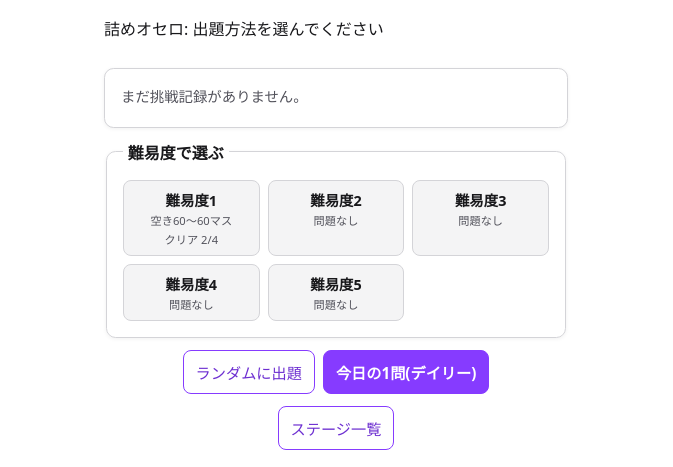
Test: T130: 詰めオセロステージ一覧の復習フィルタ › フィルタ選択はlocalStorageへ永続化され、再マウント後も保持される
This screenshot has width=673, height=467.
Click the button "ステージ一覧" at x=336, y=428, box [278,406,394,450]
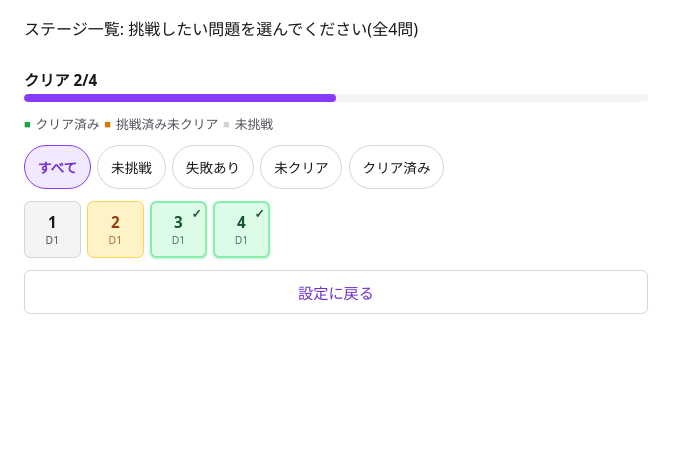
Now the element with class "tsume-stage-select" is shown
Now the button with class "tsume-stage-select__filter-button" showing "クリア済み" is shown
Click the button with class "tsume-stage-select__filter-button" showing "クリア済み" at x=397, y=167, box [349,145,444,189]
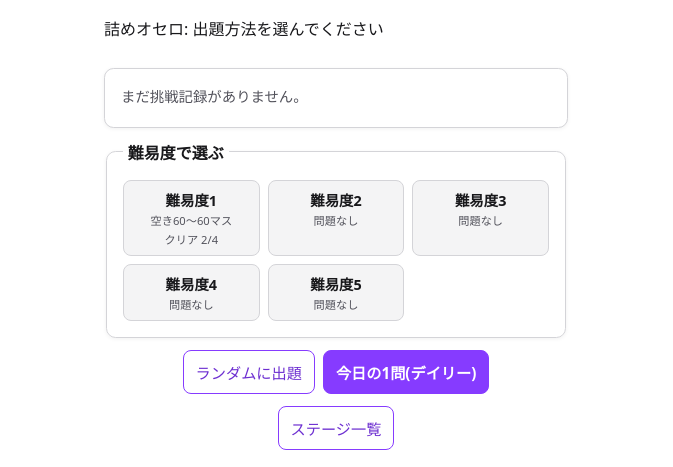
Click the button "ステージ一覧" at x=336, y=428, box [278,406,394,450]
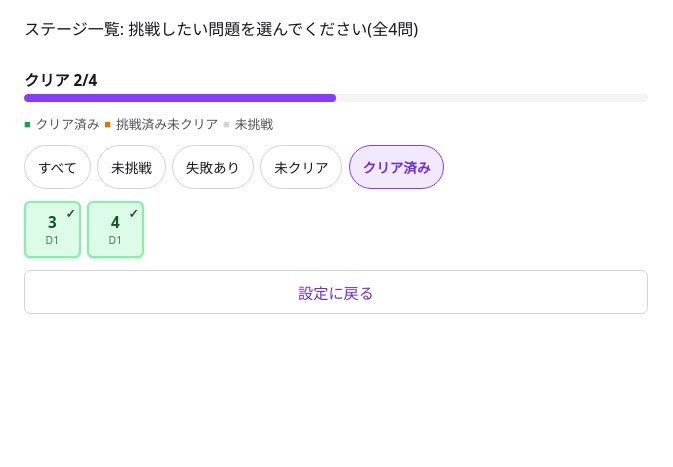
Now the element with class "tsume-stage-select" is shown
